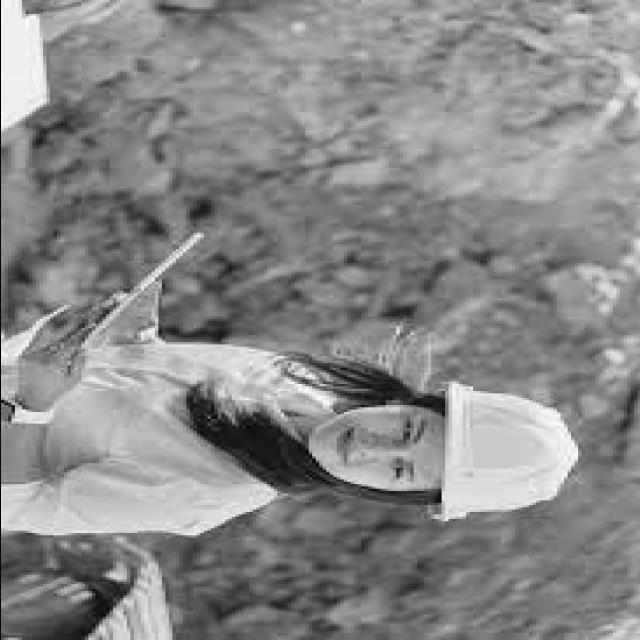safety_helmet: (434, 382, 577, 521)
